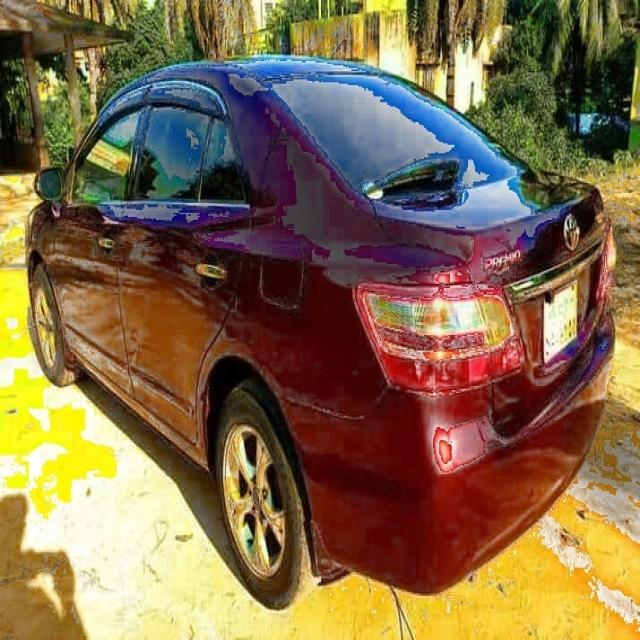maroon: (24, 71, 618, 600)
